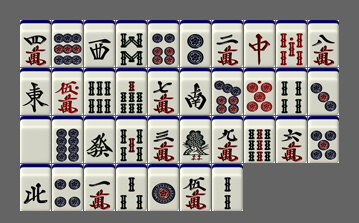0m: (52, 68, 83, 115)
0p: (244, 68, 275, 115)
0s: (276, 20, 307, 67)
1m: (84, 164, 115, 211)
1p: (148, 164, 179, 211)
1s: (180, 116, 211, 163)
1z: (20, 68, 51, 115)
2m: (212, 20, 243, 67)
2p: (180, 20, 211, 67)
2s: (212, 164, 243, 211)
2z: (180, 68, 211, 115)
3m: (148, 116, 179, 163)
3p: (308, 68, 339, 115)
3s: (116, 164, 147, 211)
3z: (84, 20, 115, 67)
4m: (20, 20, 51, 67)
4p: (52, 164, 83, 211)
4s: (276, 68, 307, 115)
4z: (20, 164, 51, 211)
5m: (180, 164, 211, 211)
5p: (308, 116, 339, 163)
5s: (116, 116, 147, 163)
5z: (20, 116, 51, 163)
6m: (276, 116, 307, 163)
6p: (148, 20, 179, 67)
6s: (84, 68, 115, 115)
6z: (84, 116, 115, 163)
7m: (148, 68, 179, 115)
7p: (212, 68, 243, 115)
7s: (116, 68, 147, 115)
7z: (244, 20, 275, 67)
8m: (308, 20, 339, 67)
8p: (52, 116, 83, 163)
8s: (116, 20, 147, 67)
9m: (212, 116, 243, 163)
9p: (52, 20, 83, 67)
9s: (244, 116, 275, 163)
